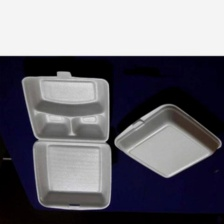foam_box: (17, 66, 115, 213), (110, 100, 223, 182)
